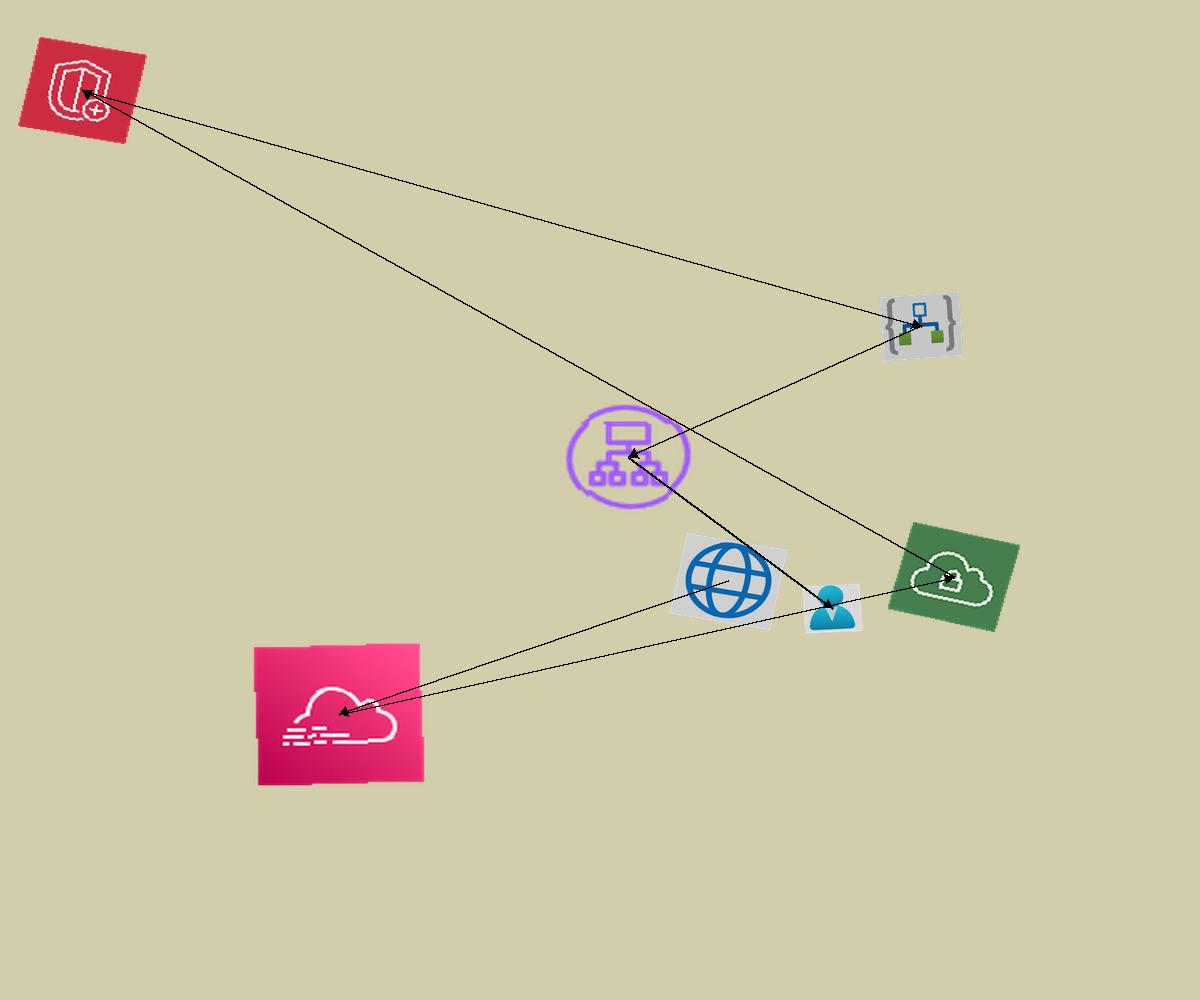AWS-CloudTrail: (252, 642, 426, 787)
AWS-Private_vpc: (887, 521, 1021, 633)
AWS-Res_Elastic-Load-Balancing_Application-Load-Balancer: (558, 398, 699, 516)
AWS-Shield: (17, 36, 148, 145)
Azure_http: (669, 532, 788, 631)
Azure_integration-204-Logic-Apps: (879, 291, 964, 362)
Azure_users: (802, 583, 863, 634)
